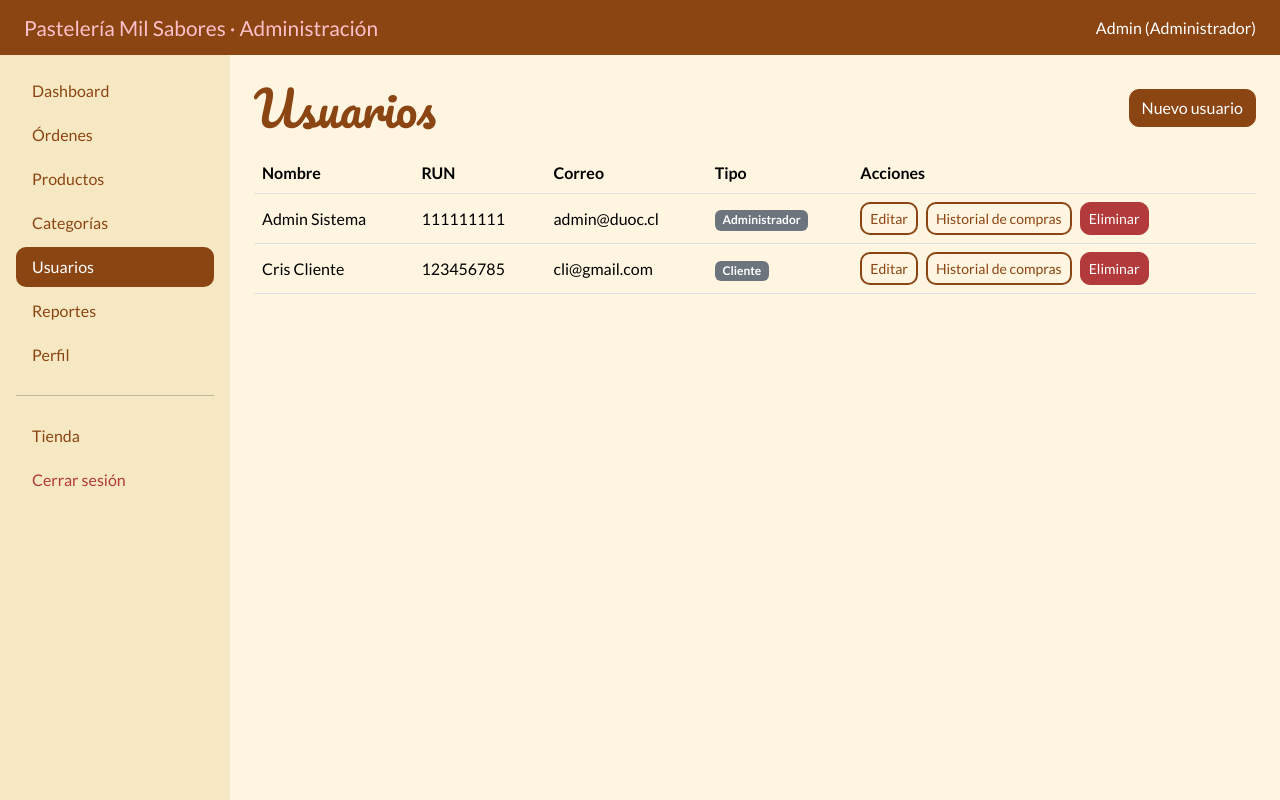
Test case: Admin: eliminar usuarios y casos de error › elimina a otro usuario después de confirmar
Step 1. Click the button "Eliminar" in the row of "Cris" → (1114,268), box [1080, 252, 1149, 285]
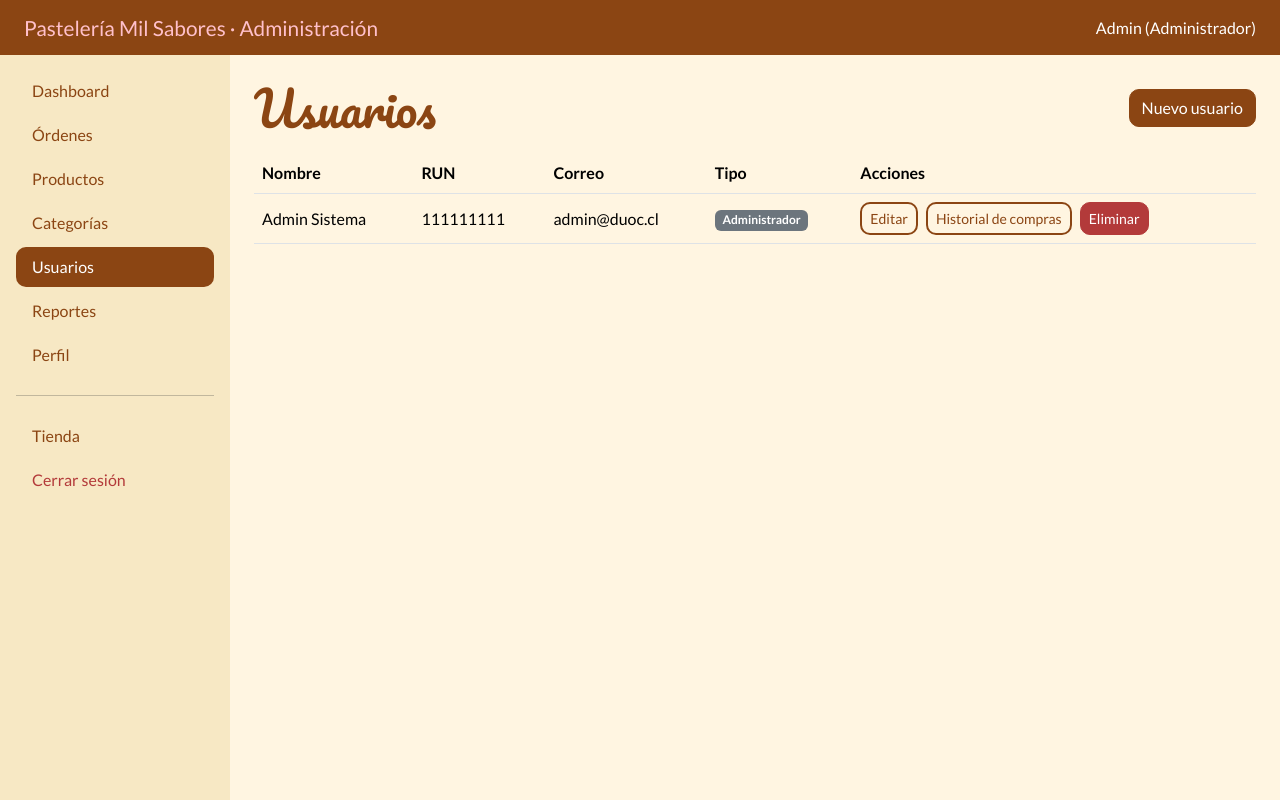
Expected: the number of rows is 2, [254, 153, 1256, 193]; [254, 193, 1256, 244]
